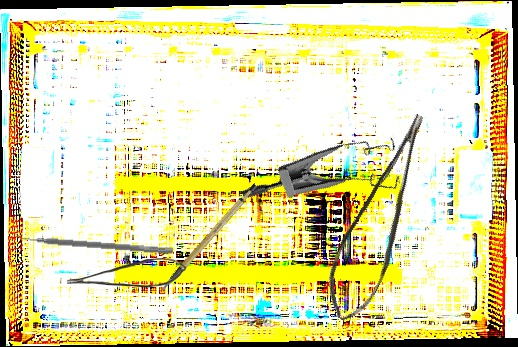Micro Scissor: (308, 110, 461, 329), (67, 257, 186, 288)
Scalpel Handle: (145, 181, 270, 293)
Spatula Surgical: (14, 229, 174, 255)
Speculum: (239, 109, 416, 258)
